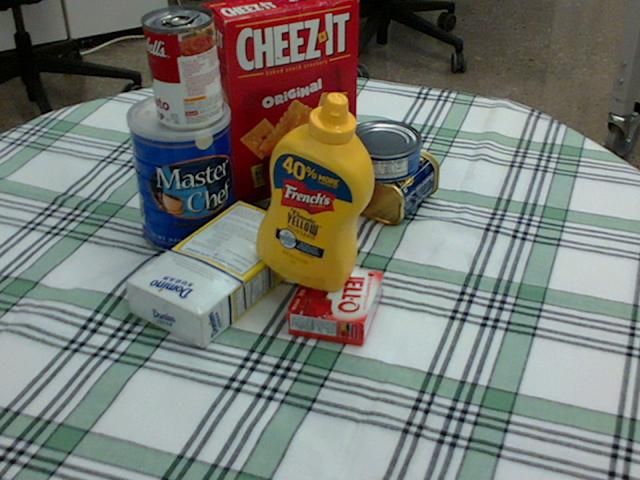cracker_box: (200, 0, 358, 202)
gelatin_box: (287, 261, 382, 344)
master_chef_can: (125, 91, 236, 254)
mug: (264, 138, 356, 241)
mustard_bottle: (256, 91, 374, 291)
potted_meat_can: (325, 133, 436, 222)
sugar_box: (125, 199, 309, 347)
tomato_soup_can: (143, 5, 223, 128)
tuna_fish_can: (343, 120, 420, 181)
